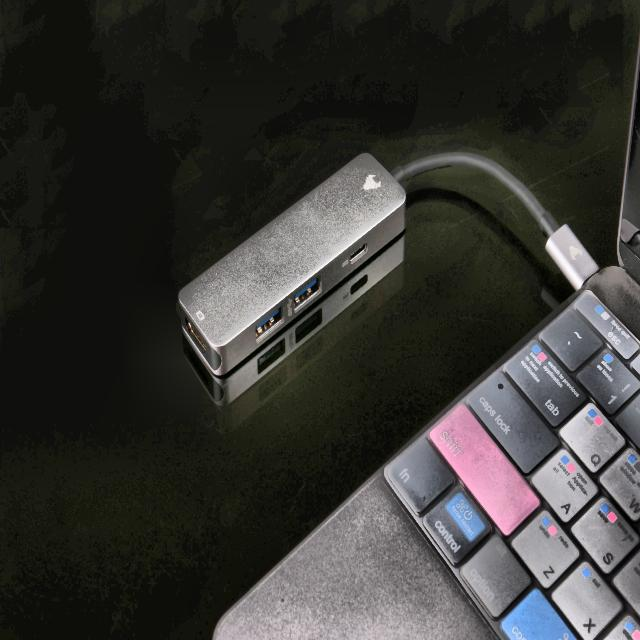HUB: (178, 152, 597, 374)
